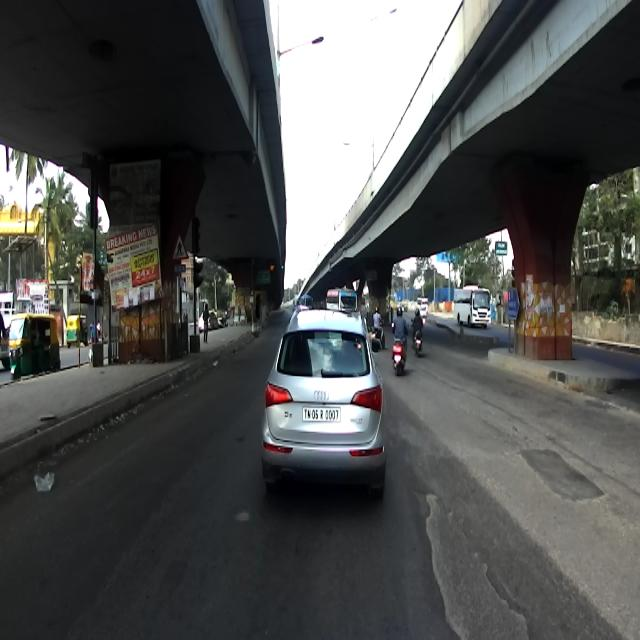car ahead at: (261, 306, 385, 505)
sign board ahead at: (164, 230, 192, 272)
